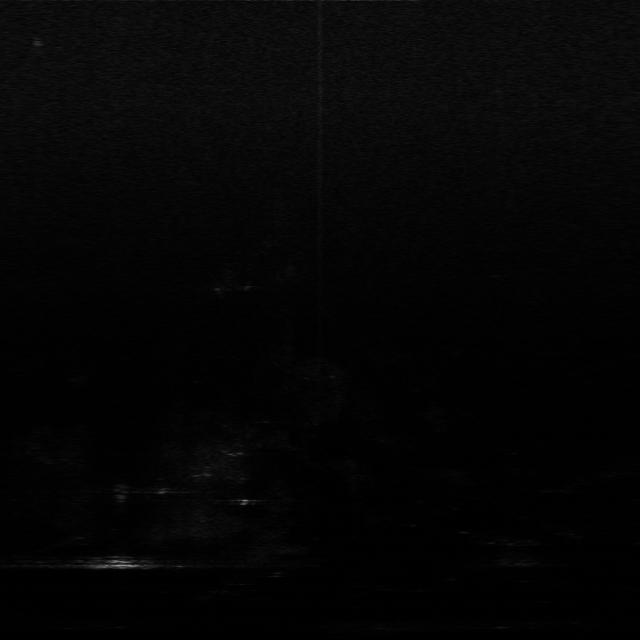rov: (102, 556, 139, 572)
